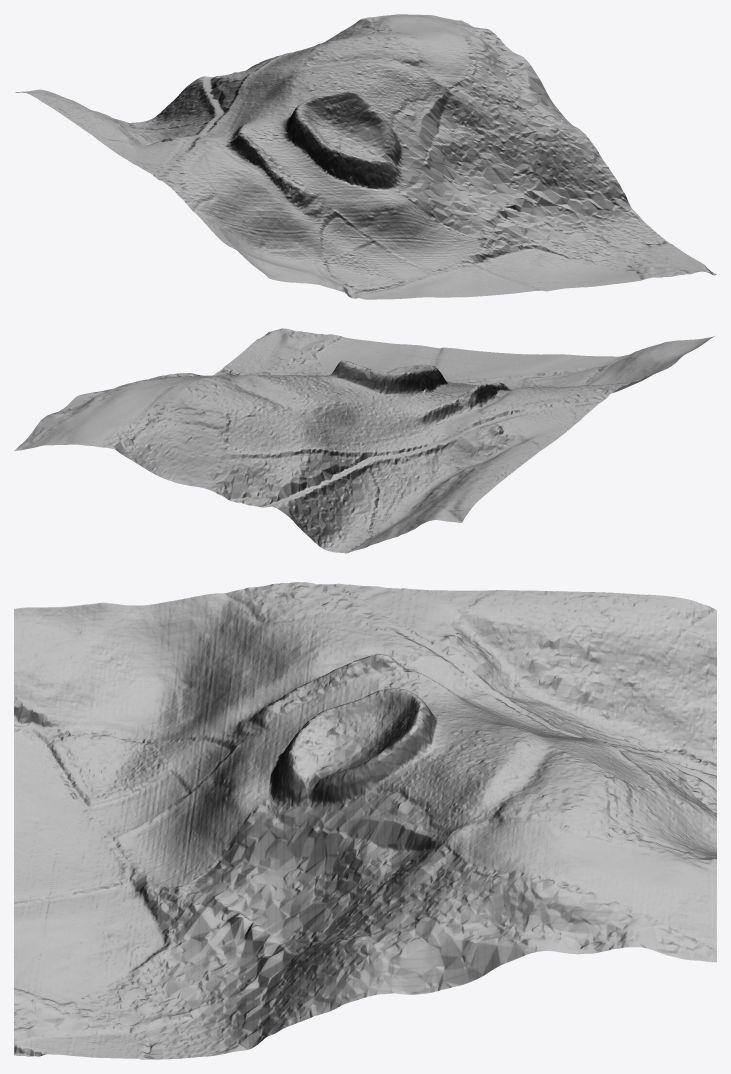
The model's file is circulo_san xuliao.gltf.
3 views of the same model, one above another, from view 1: azimuth 30°, elevation 25°; view 2: azimuth 150°, elevation 25°; view 3: azimuth 270°, elevation 25° (orthographic). The views are drawn at different scales.
Bounding box in the file's own units: 419 × 121 × 413.
Materials: 1 (1 with a texture image).
